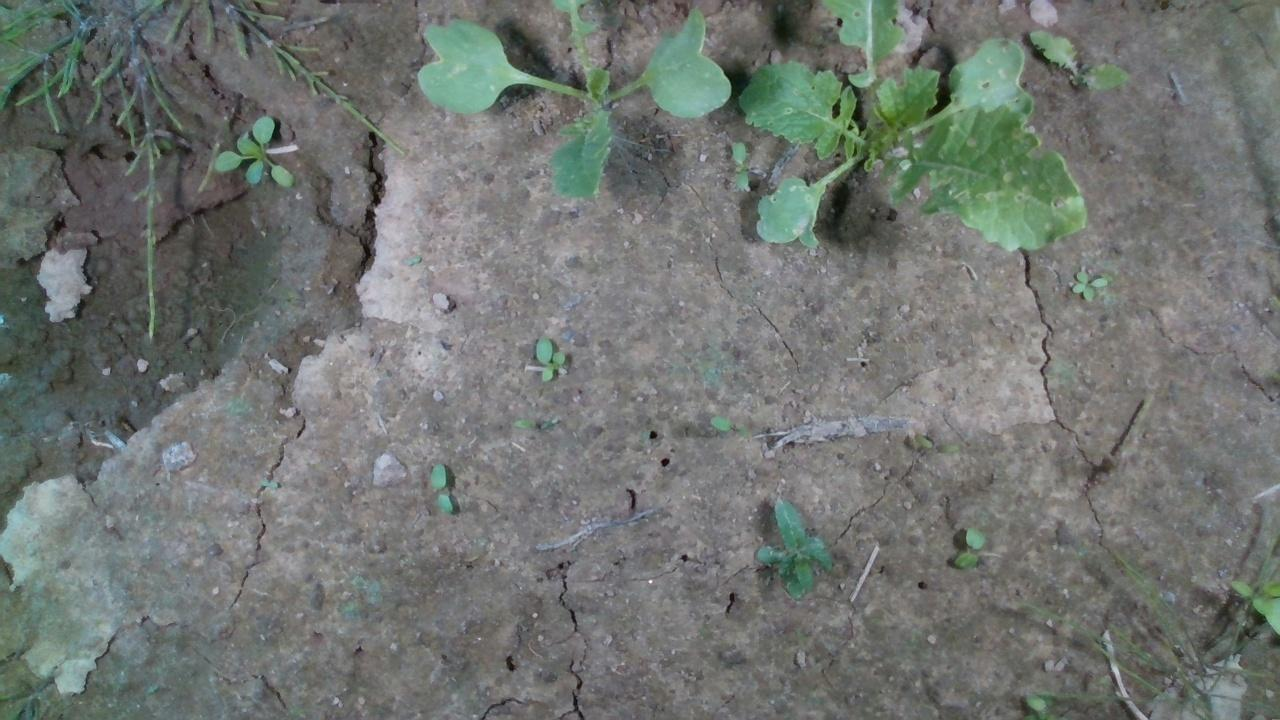weed: (951, 524, 985, 571), (1069, 267, 1109, 304), (426, 461, 453, 513)
